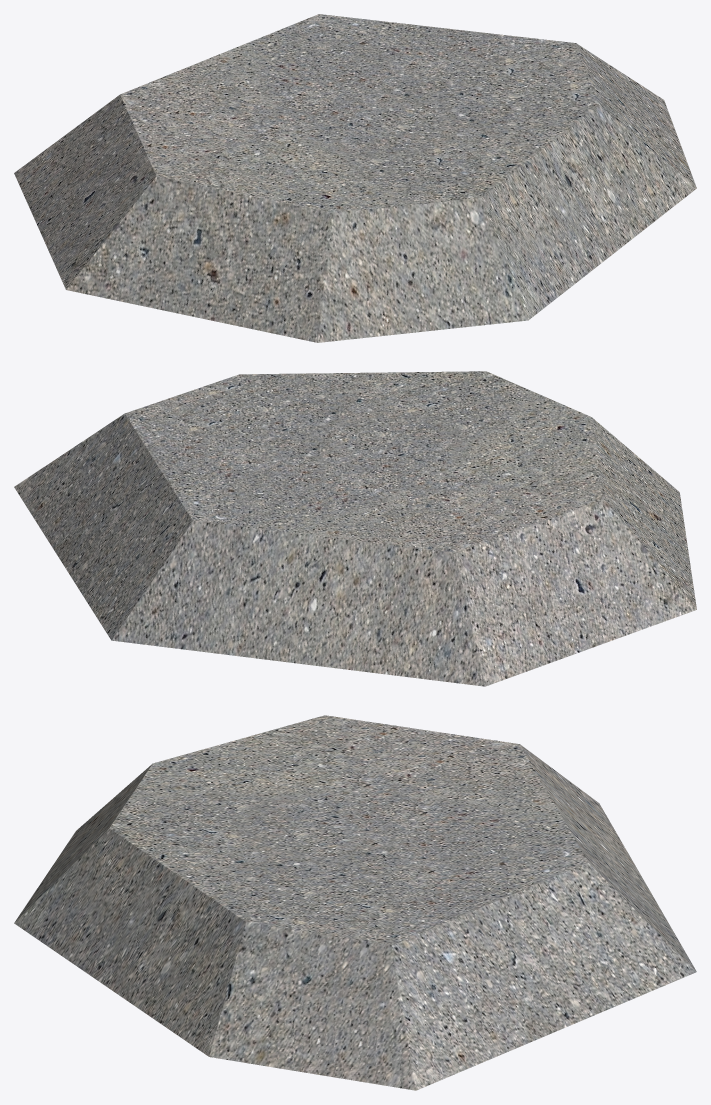
Rendered from rock_all_hard.FBX.
3 views of the same model, one above another, from view 1: azimuth 30°, elevation 25°; view 2: azimuth 150°, elevation 25°; view 3: azimuth 270°, elevation 25° (orthographic). The views are drawn at different scales.
Parts seen in each view (by area): view 1: Line001; view 2: Line001; view 3: Line001.
Boxes of the visible parts, bbox=[...] form: Line001: bbox=[14, 14, 696, 342]; Line001: bbox=[14, 371, 696, 686]; Line001: bbox=[14, 715, 696, 1090].
Bounding box in the file's own units: 110 × 14.71 × 96.86.
Materials: 1 (1 with a texture image).
